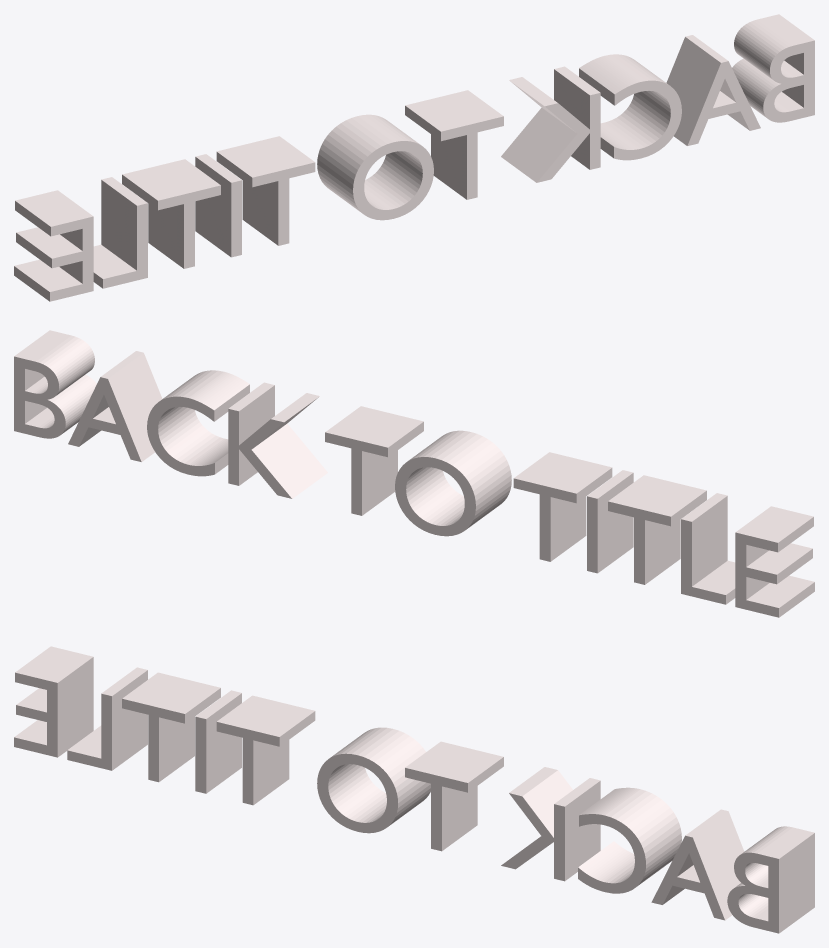
File: BackTitle.obj
The picture shows the model from 3 angles, top to bottom: view 1: azimuth 30°, elevation 25°; view 2: azimuth 150°, elevation 25°; view 3: azimuth 330°, elevation 25°; orthographic projection.
Parts seen in each view (by area): view 1: テキスト; view 2: テキスト; view 3: テキスト.
Boxes of the visible parts, box(x1,y1,x2,y2) form: テキスト: box(14, 14, 814, 301); テキスト: box(14, 330, 814, 617); テキスト: box(14, 646, 814, 933).
Bounding box in the file's own units: 2.59 × 0.2476 × 0.2101.
Materials: 1 (1 with a texture image).
